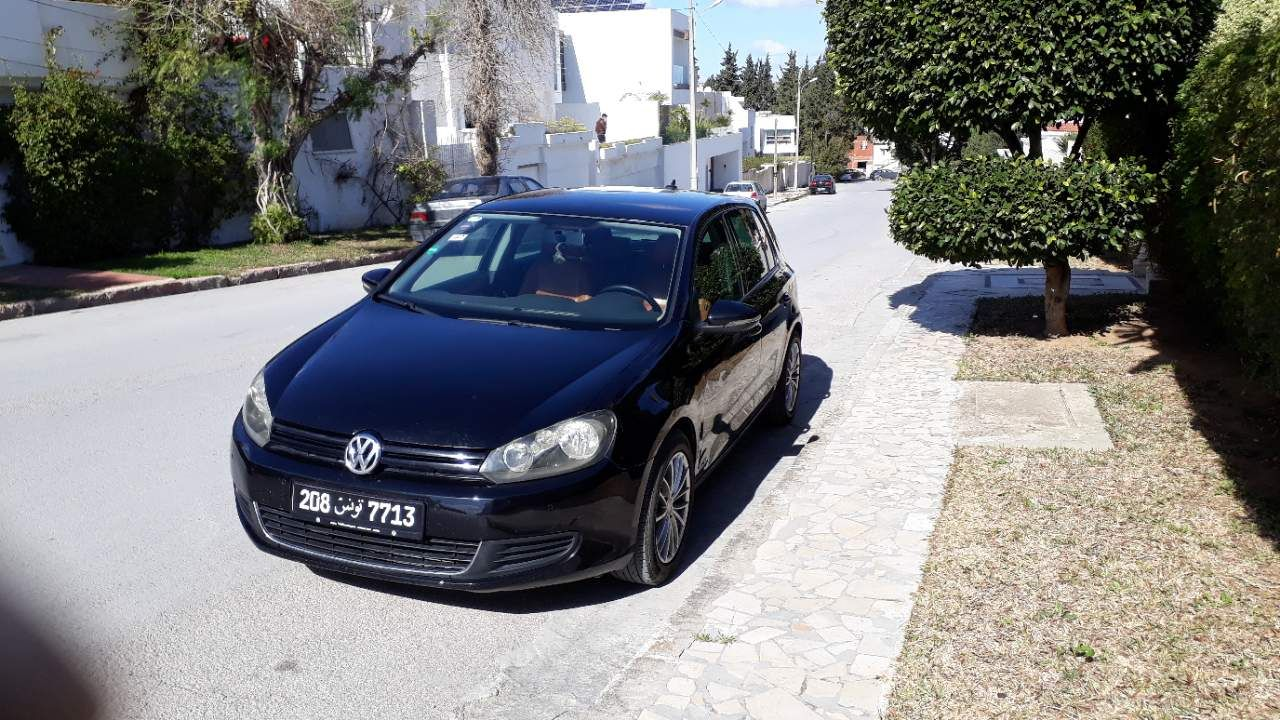LP: (292, 481, 422, 536)
